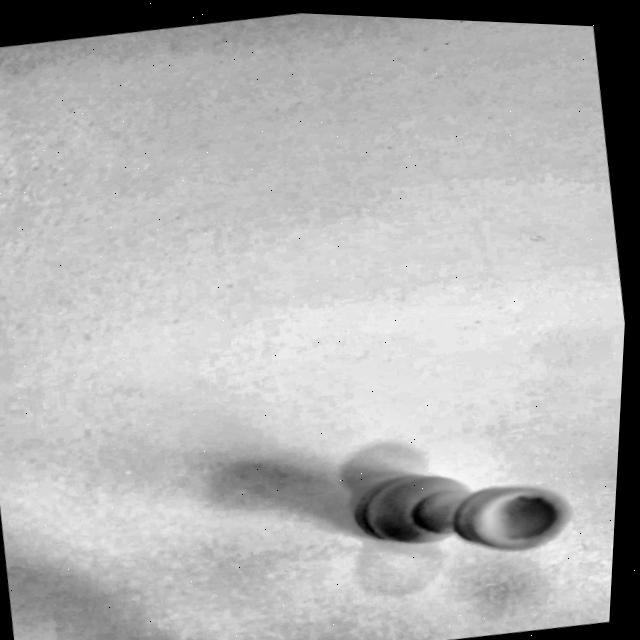white-rook: (264, 406, 593, 623)
